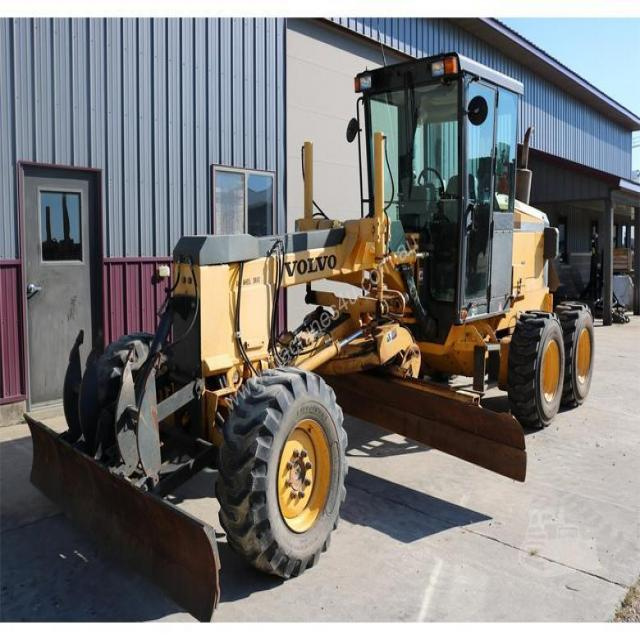Grader: (52, 29, 638, 569)
